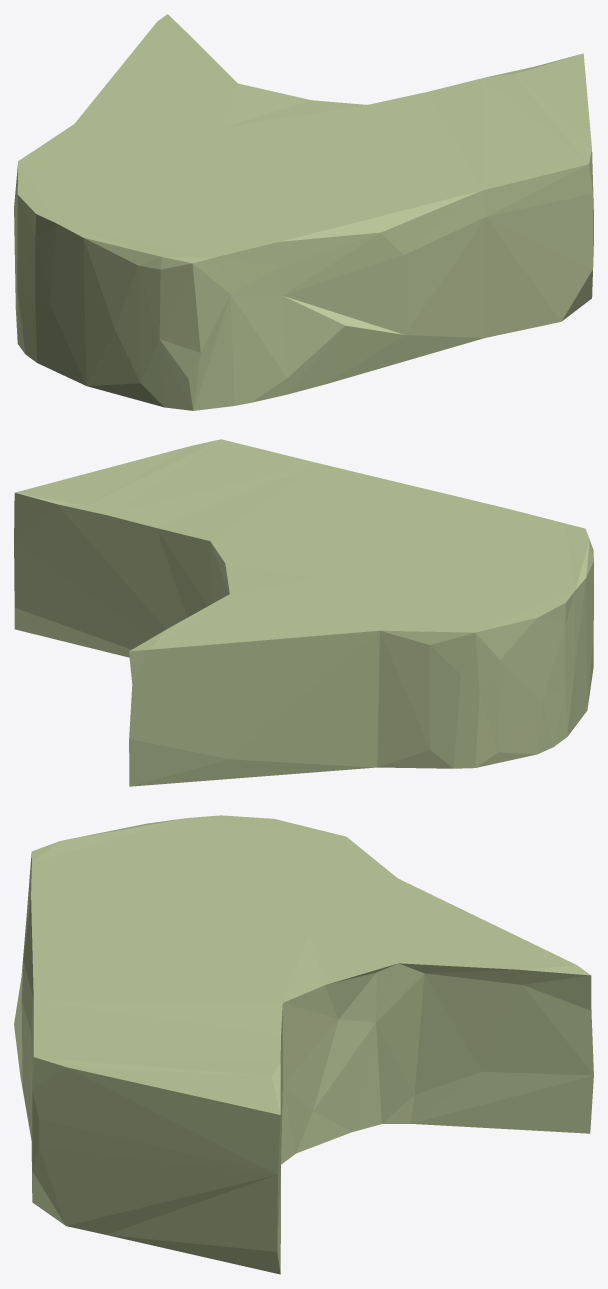
File: ground_11.gltf
3 views of the same model, one above another, from view 1: azimuth 30°, elevation 25°; view 2: azimuth 150°, elevation 25°; view 3: azimuth 270°, elevation 25° (orthographic). The views are drawn at different scales.
Visible parts, largest first — view 1: west_east_laboratory; view 2: west_east_laboratory; view 3: west_east_laboratory.
Boxes of the visible parts, x1,y1,x2,y2 form: west_east_laboratory: (14,14,593,410); west_east_laboratory: (14,439,593,786); west_east_laboratory: (14,815,593,1274).
Bounding box in the file's own units: 13.94 × 3.47 × 11.36.
